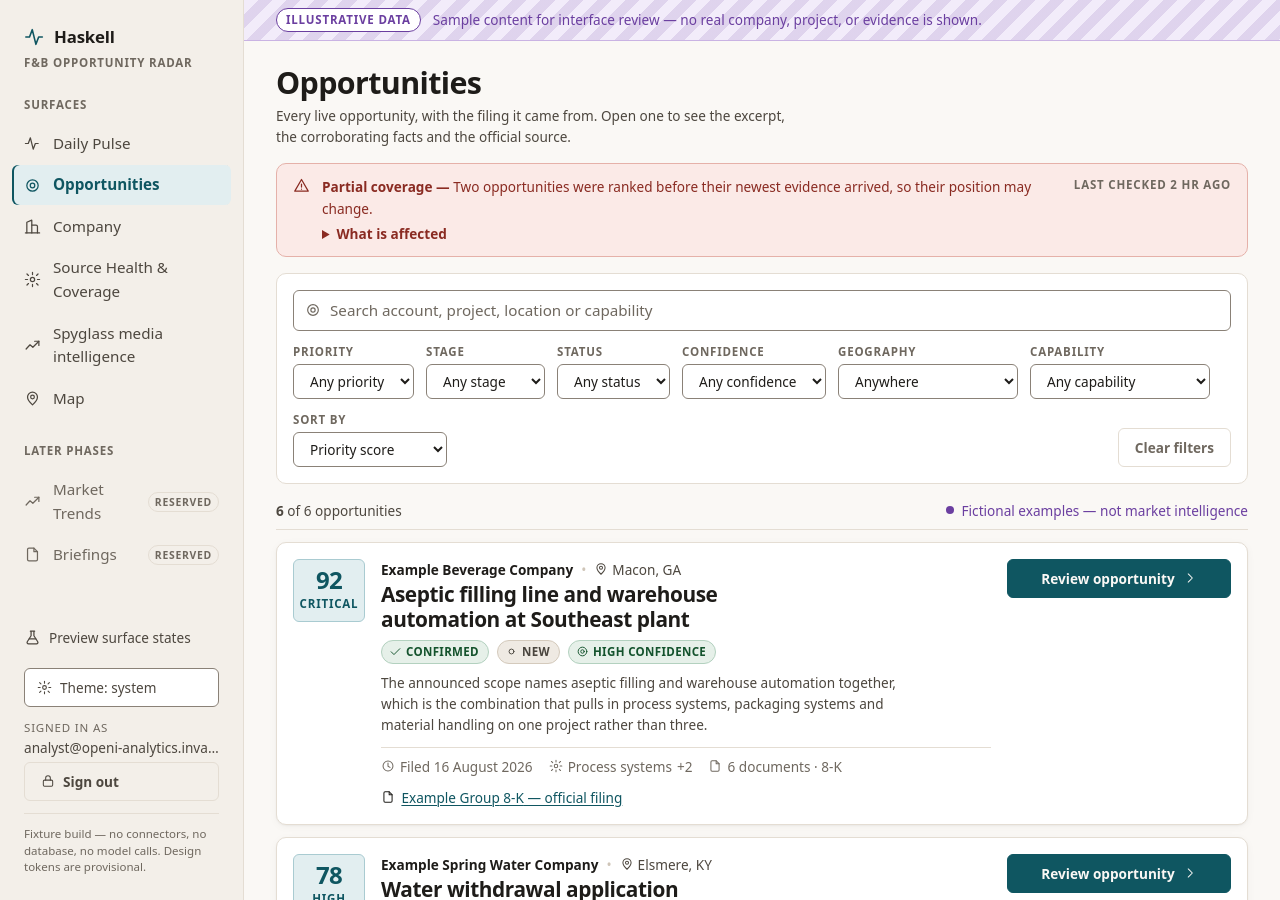
degraded and stale › keeps content visible in the degraded state and names what is affected
Expected: the text "Partial coverage —" is shown, [322,178,453,196]
Expected: the element that starts with "Critical" is shown, [276,542,1248,825]
Step 1. Click the heading "What is affected" → [392, 233], box [336,224,447,243]
(page scrolled)
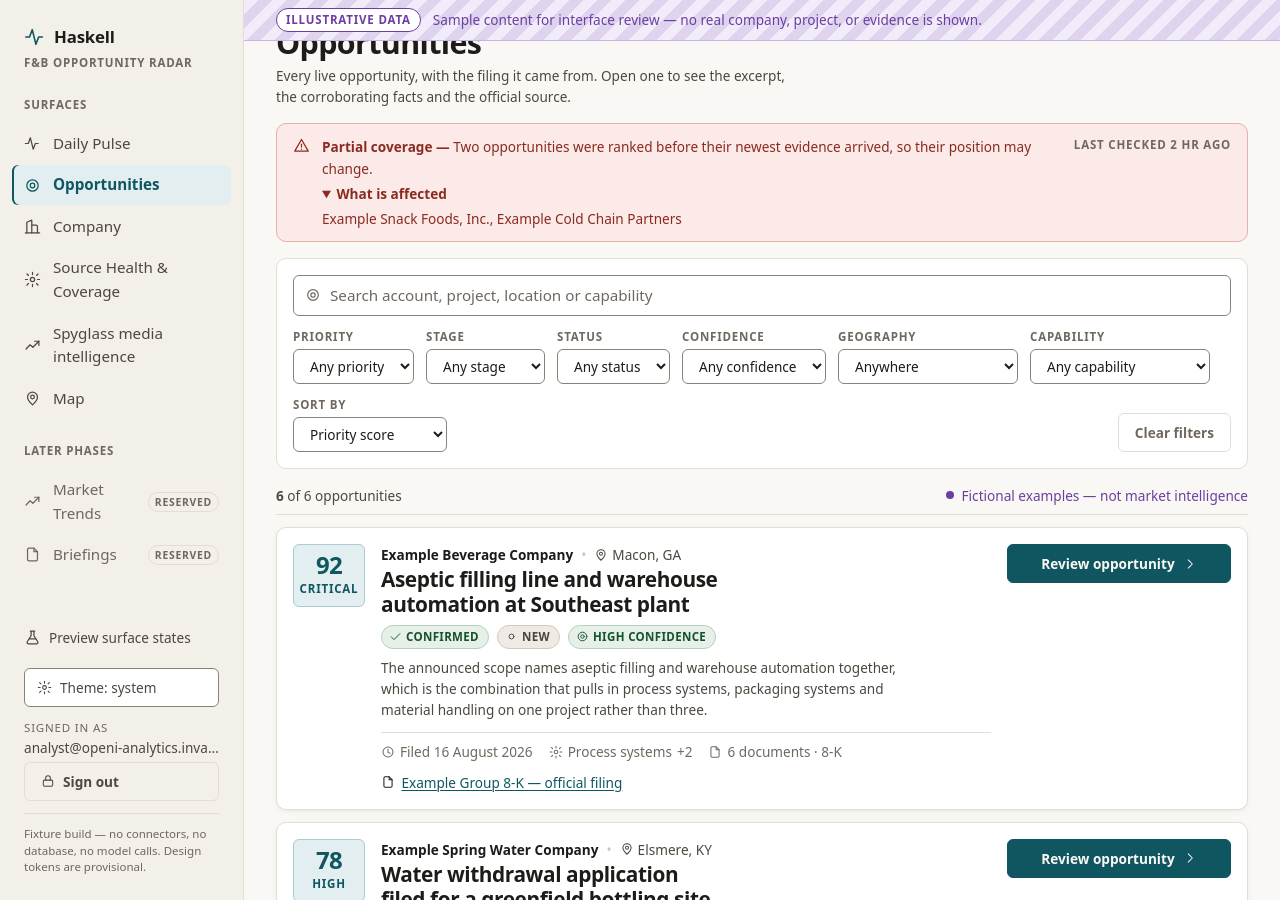
Result: the text "Example Snack Foods, Inc., Example Cold Chain Partners" is shown at [322,209,682,228]
